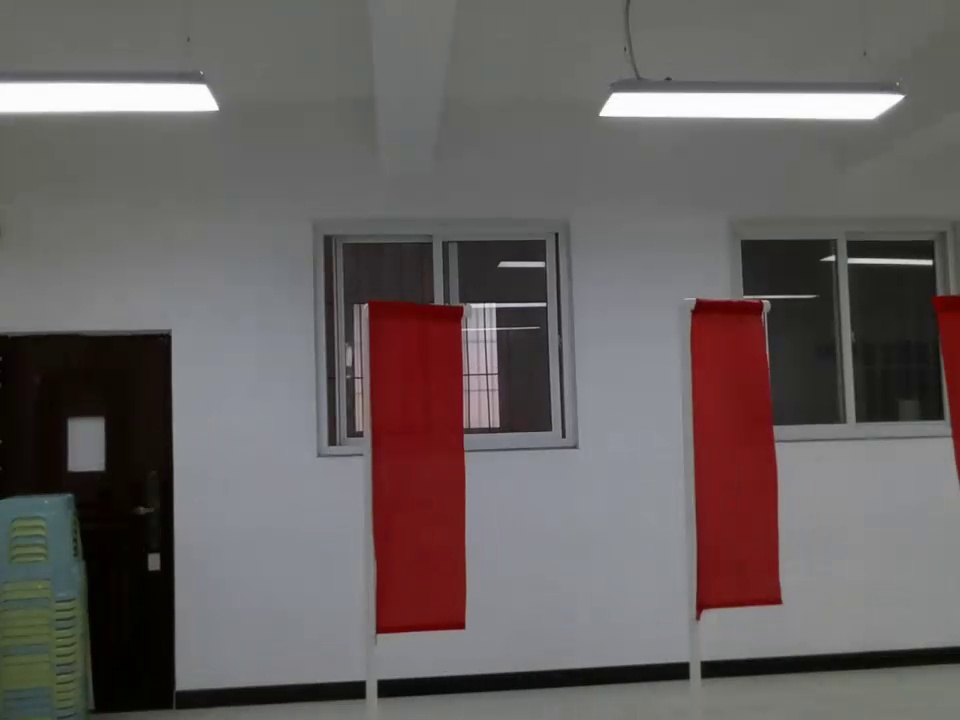qi: (363, 301, 472, 633), (682, 297, 782, 613), (932, 294, 960, 482)
